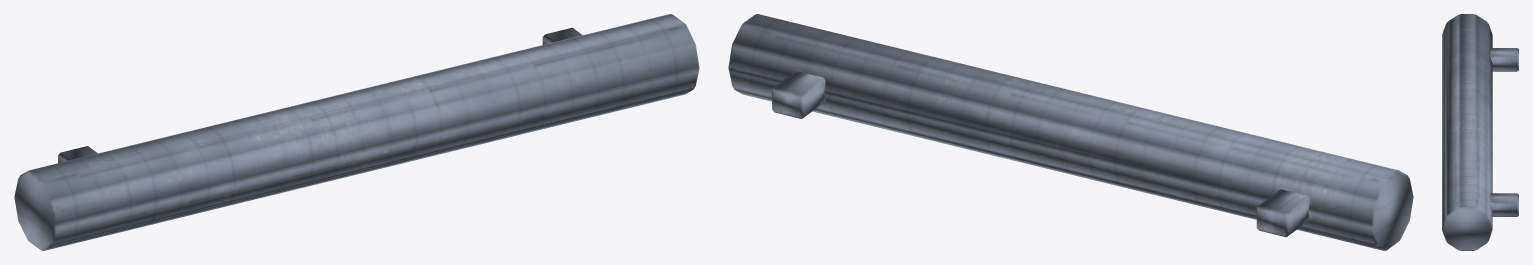
File: Canio_Tramo.fbx
3 renders of one model, left to right at view 1: azimuth 30°, elevation 25°; view 2: azimuth 150°, elevation 25°; view 3: azimuth 270°, elevation 25°, orthographic. The views are drawn at different scales.
Visible parts, largest first — view 1: Canio_Tramo; view 2: Canio_Tramo; view 3: Canio_Tramo.
Boxes of the visible parts, x1,y1,x2,y2 form: Canio_Tramo: (14,14,699,250); Canio_Tramo: (728,14,1413,250); Canio_Tramo: (1442,14,1518,250).
Bounding box in the file's own units: 8 × 0.856 × 1.34.
